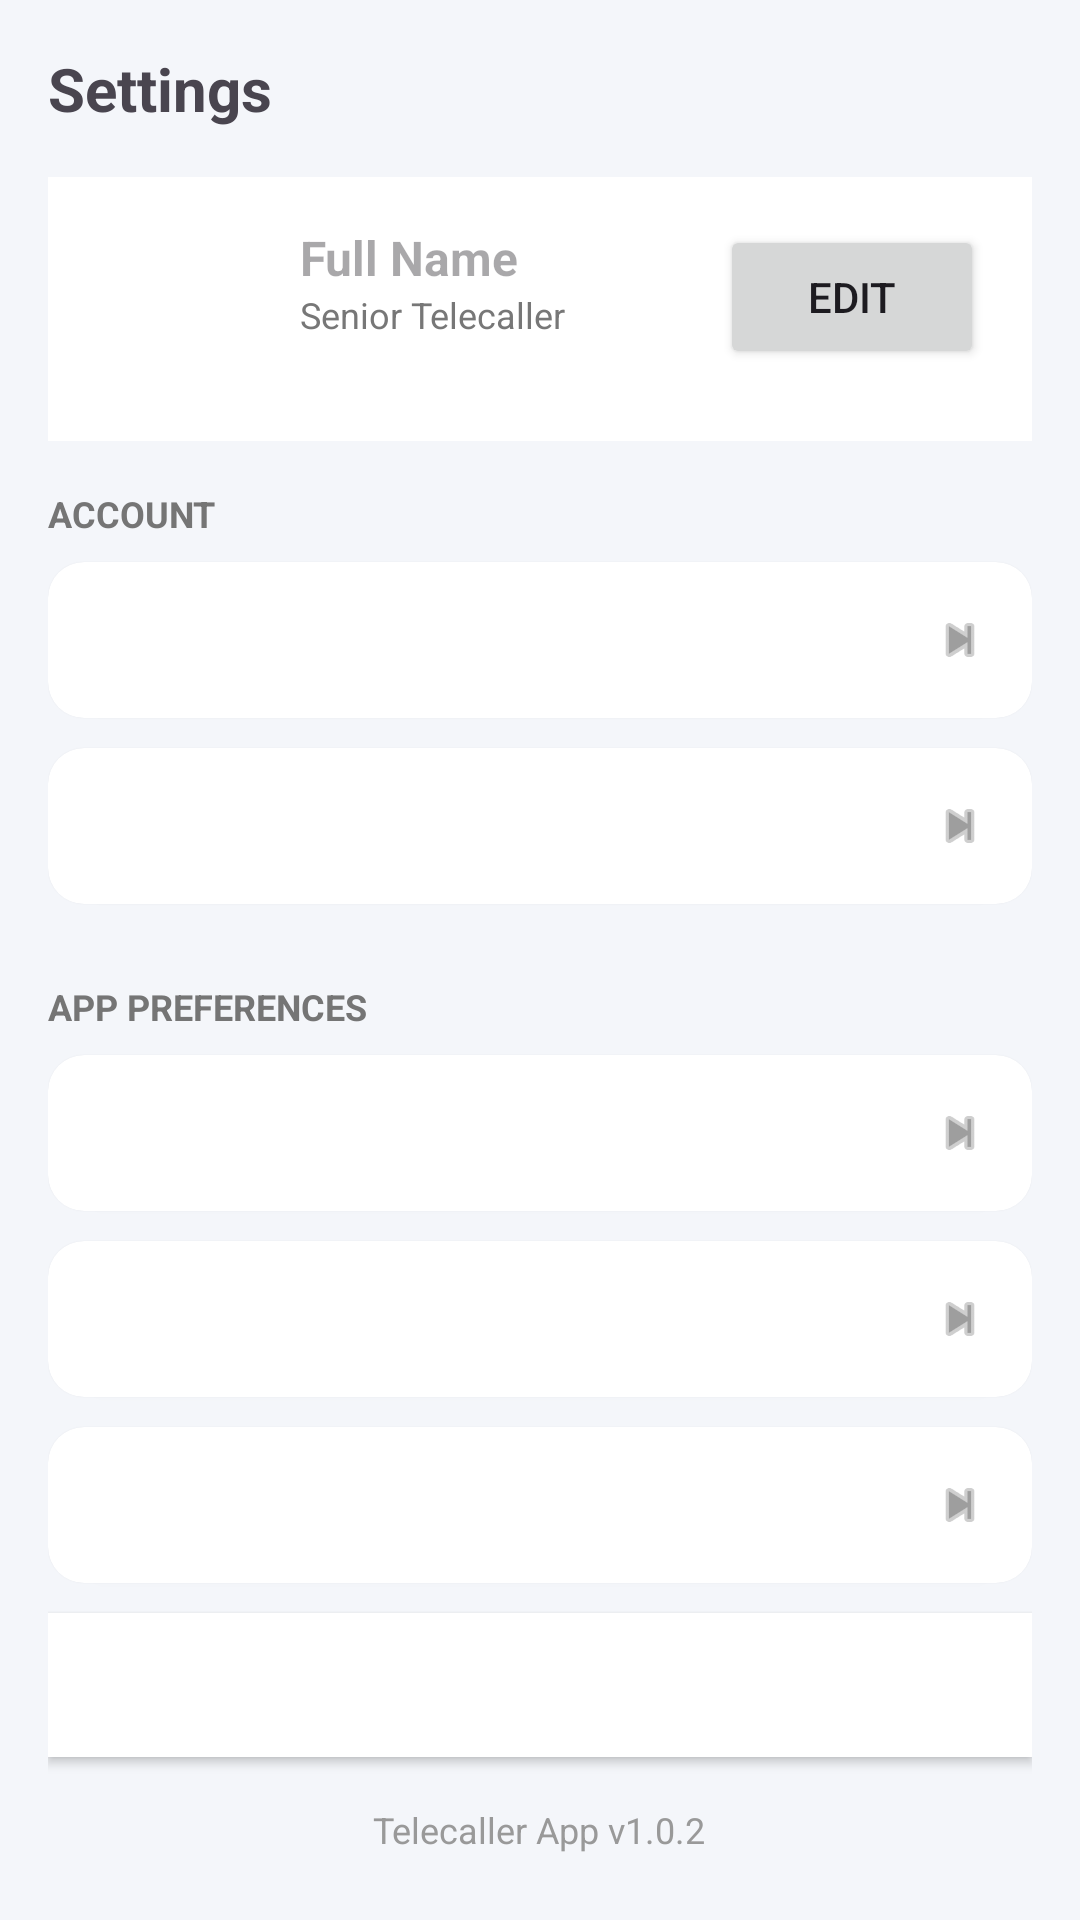

Icons on this 1080×1920 Android screen, each with its box as (x1, y1, x2, y2):
next: (946, 623, 974, 657), (946, 809, 974, 843), (946, 1116, 974, 1150), (946, 1302, 974, 1336), (946, 1488, 974, 1522)
